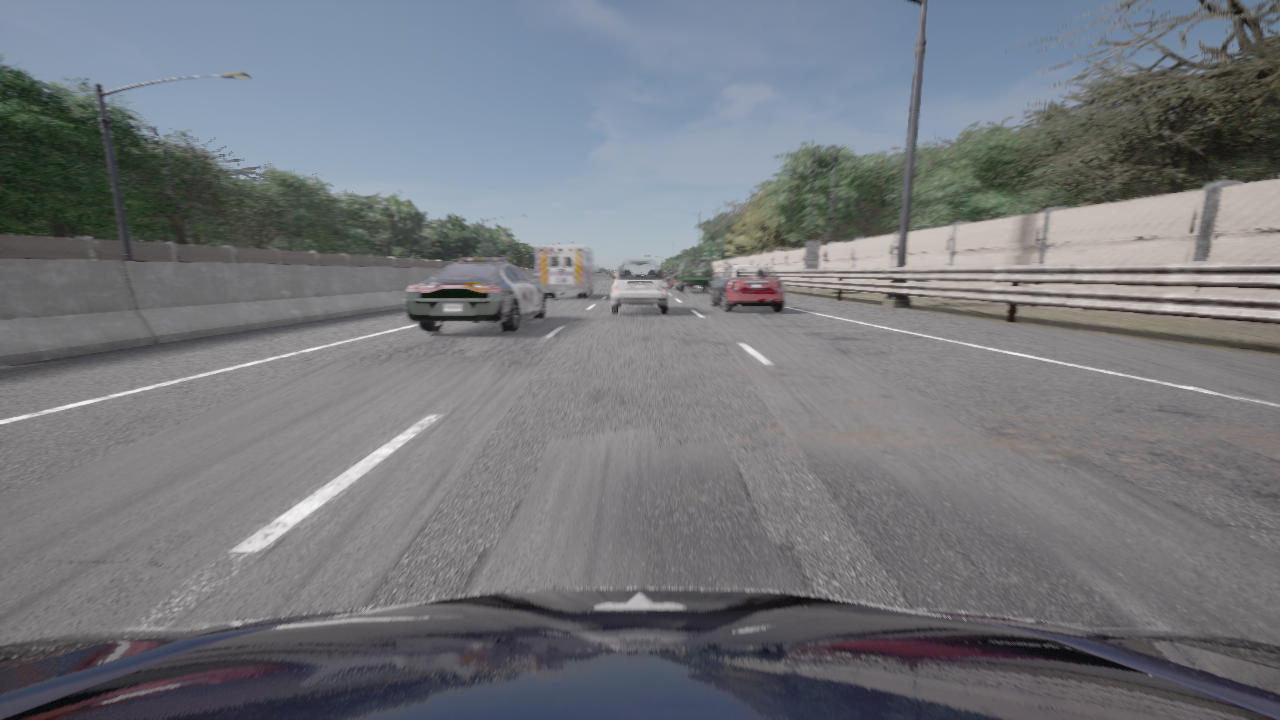cyclist: (0, 588, 1279, 719), (404, 258, 546, 331), (709, 265, 784, 312), (535, 245, 598, 297), (610, 260, 668, 314), (674, 258, 714, 292), (667, 271, 694, 289)
